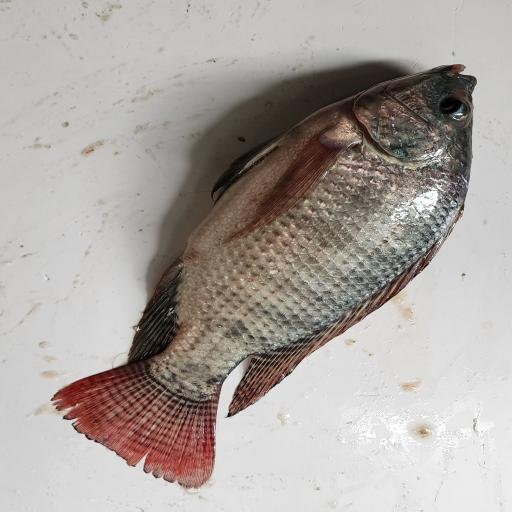Tilapia: (50, 63, 478, 489)
